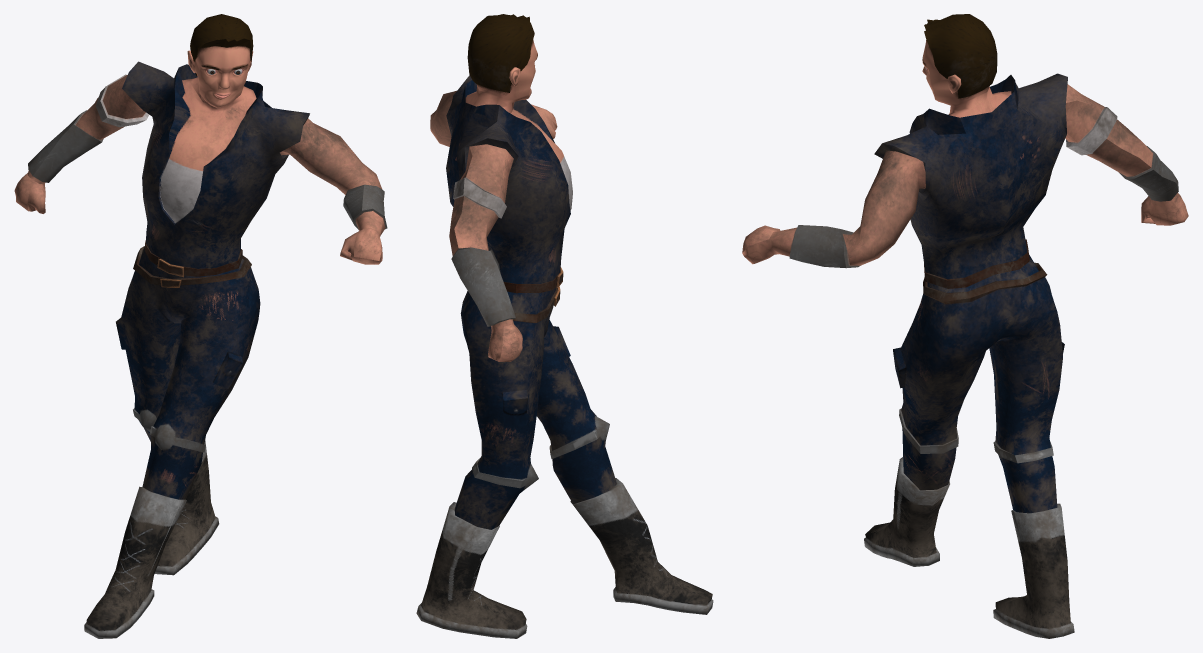
Rendered from Anim_ataque_f2_jugador.0036.obj.
3 renders of one model, left to right at view 1: azimuth 30°, elevation 25°; view 2: azimuth 150°, elevation 25°; view 3: azimuth 270°, elevation 25°, orthographic. The views are drawn at different scales.
Parts seen in each view (by area): view 1: polySurface1; view 2: polySurface1; view 3: polySurface1.
Part boxes in pixels (left/top/right/bottom): polySurface1: left=14, top=14, right=387, bottom=638; polySurface1: left=416, top=14, right=713, bottom=638; polySurface1: left=742, top=14, right=1188, bottom=638.
Bounding box in the file's own units: 4.96 × 9.55 × 6.23.
